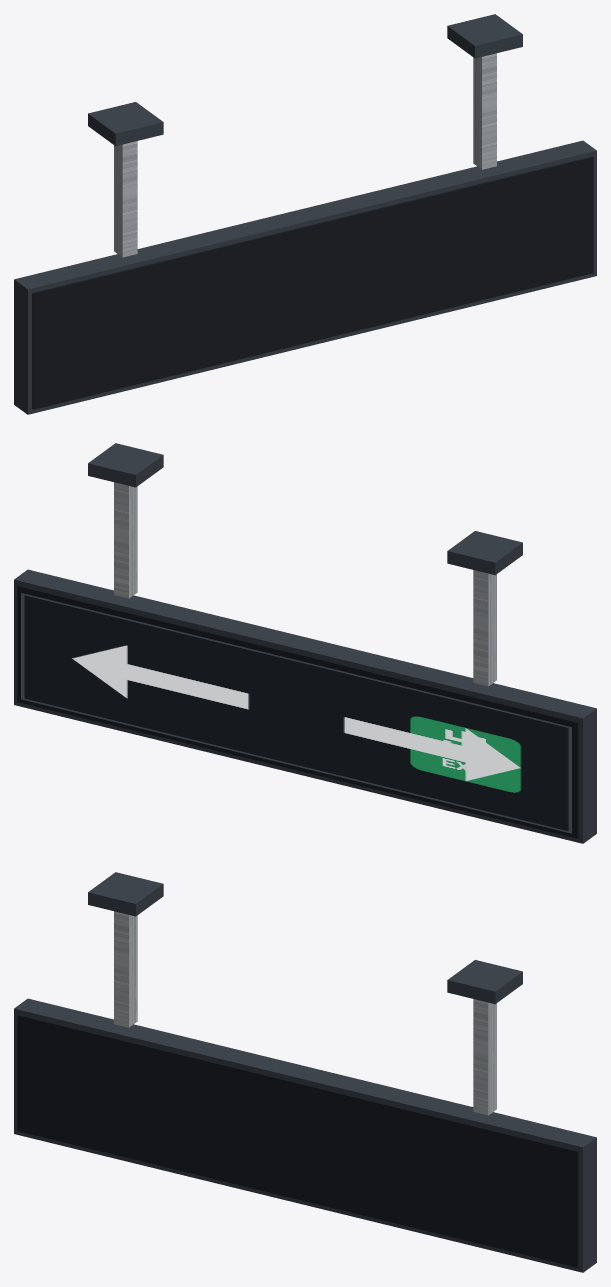
The model's file is sign-ceiling.glb.
3 renders of one model, top to bottom at view 1: azimuth 30°, elevation 25°; view 2: azimuth 150°, elevation 25°; view 3: azimuth 330°, elevation 25°, orthographic.
Parts seen in each view (by area): view 1: SignCeiling; view 2: SignCeiling; view 3: SignCeiling.
Part boxes in pixels (x1,y1,x2,y2): SignCeiling: (14, 14, 596, 414); SignCeiling: (14, 443, 596, 843); SignCeiling: (14, 872, 596, 1272).
Size of the model in its own units: 1.9 by 0.85 by 0.16.
4 materials, 2 textured.
